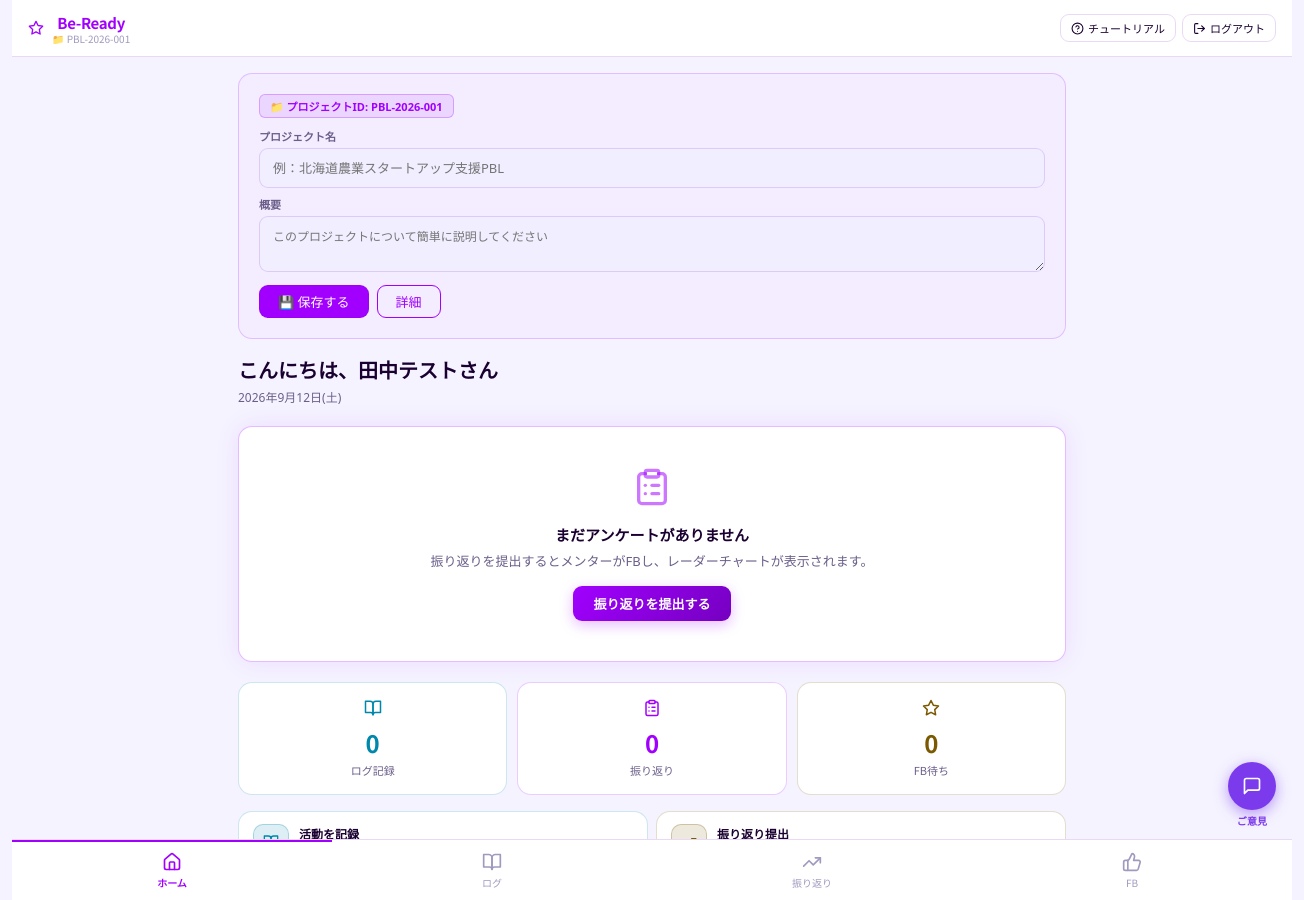
App - 学生: ボトムナビゲーション › 「ログ」タブをクリックするとログ記録画面に遷移する
Check: the text "Be-Ready" is shown, box [57,12,125,33]
Click the button "ログ" at (492, 870), box [332,840,652,899]
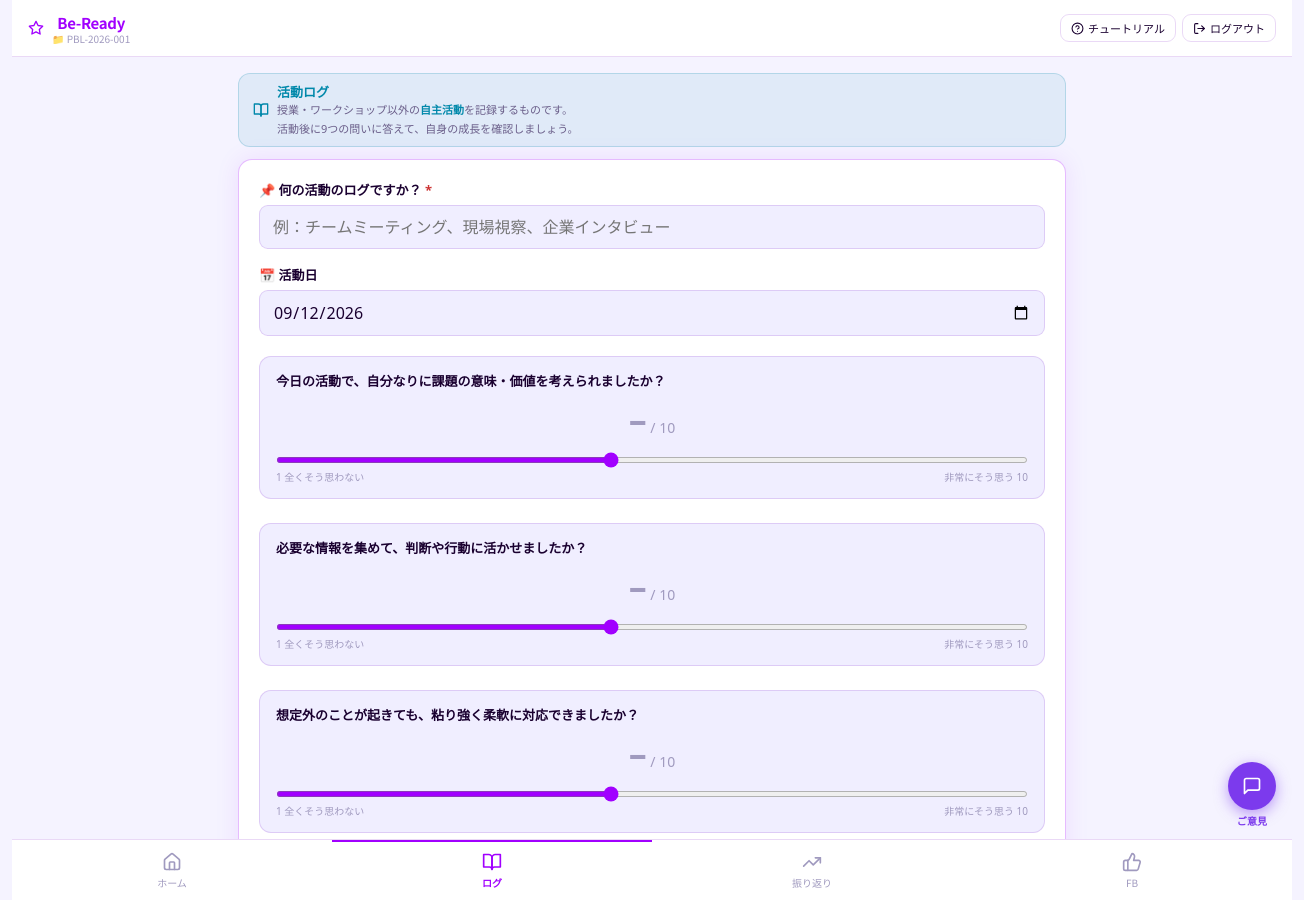
Check: the text "活動ログ" is shown, box [277,83,329,101]
